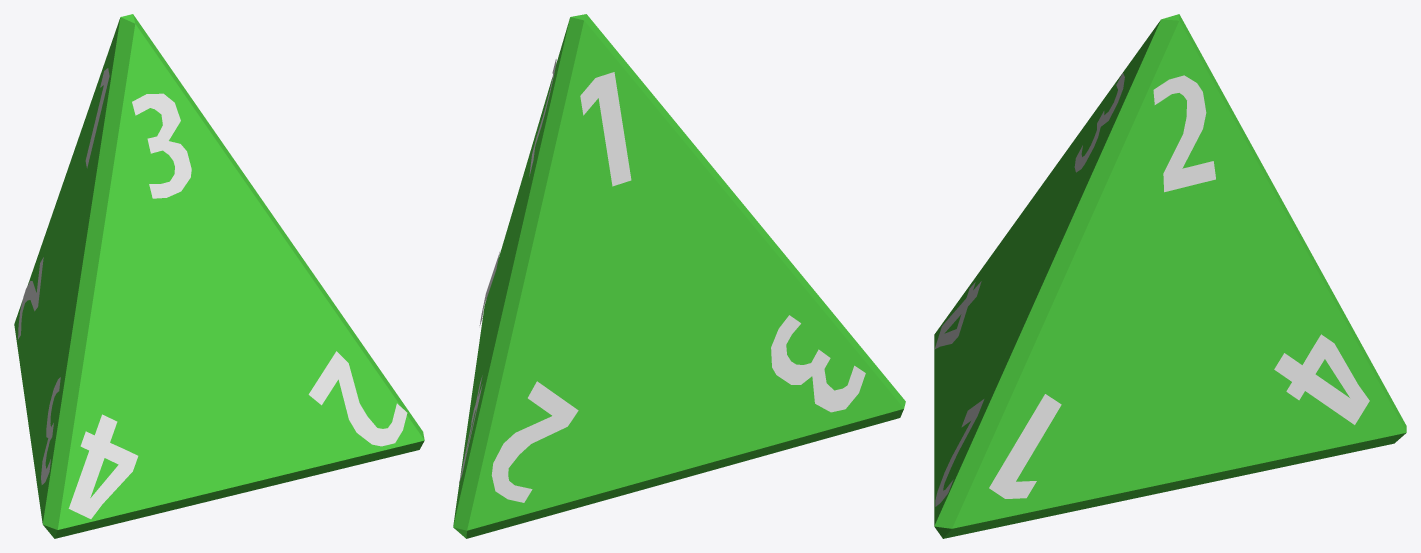
The picture shows the model from 3 angles, left to right: view 1: azimuth 30°, elevation 25°; view 2: azimuth 150°, elevation 25°; view 3: azimuth 270°, elevation 25°; orthographic projection. The views are drawn at different scales.
Visible parts, largest first — view 1: 4-Sided-Die; view 2: 4-Sided-Die; view 3: 4-Sided-Die.
Boxes of the visible parts, left/top/right/bottom form: 4-Sided-Die: left=14, top=14, right=424, bottom=538; 4-Sided-Die: left=453, top=14, right=905, bottom=538; 4-Sided-Die: left=934, top=14, right=1406, bottom=538.
Bounding box in the file's own units: 110 × 110 × 110.
2 materials, 2 textured.
